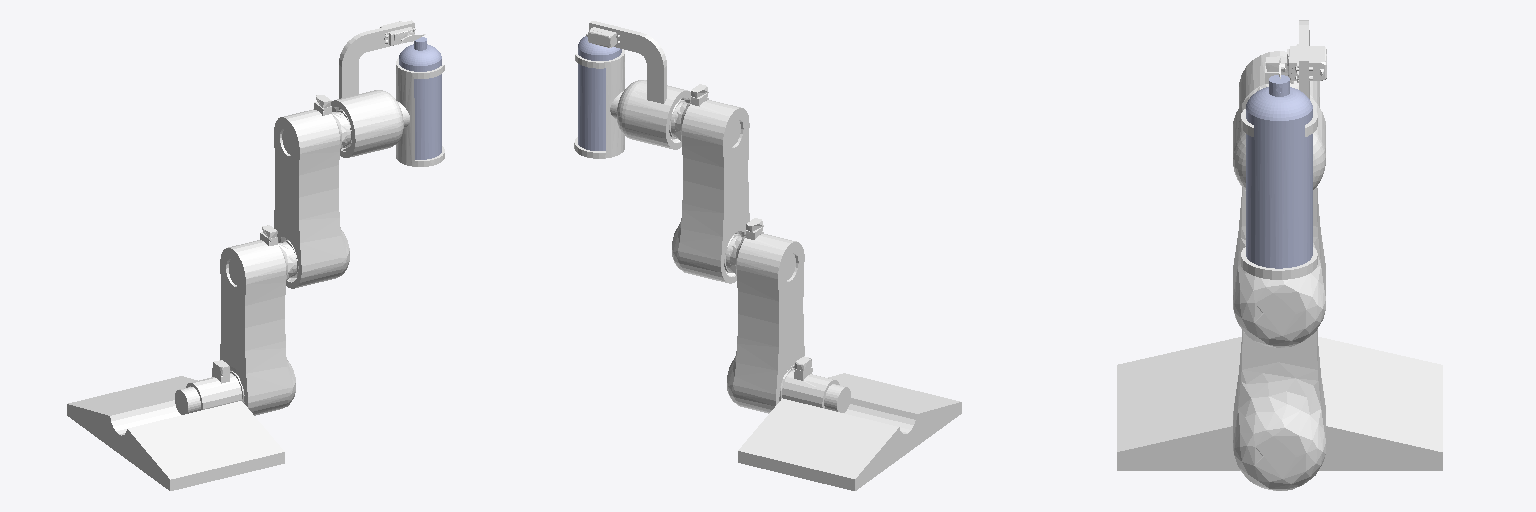
URDF robot description (urdf_manipulator):
<?xml version="1.0" encoding="utf-8"?>
<!-- This URDF was automatically created by SolidWorks to URDF Exporter! Originally created by [author] ([email redacted]) 
     Commit Version: 1.6.0-4-g7f85cfe  Build Version: 1.6.7995.38578
     For more information, please see http://wiki.ros.org/sw_urdf_exporter -->
<robot
  name="urdf_manipulator">

  <link name="world"/>
  <link
    name="base_link">
    <inertial>
      <origin
        xyz="0.032855 -2.0396E-07 0.032493"
        rpy="0 0 0" />
      <mass
        value="3.6432" />
      <inertia
        ixx="0.029523"
        ixy="1.0146E-10"
        ixz="-0.00060761"
        iyy="0.013131"
        iyz="7.624E-09"
        izz="0.017934" />
    </inertial>
    <visual>
      <origin
        xyz="0 0 0"
        rpy="0 0 0" />
      <geometry>
        <mesh
          filename="package://urdf_manipulator/meshes/meshes_visual/base_link.STL" />
      </geometry>
      <material
        name="">
        <color
          rgba="1 1 1 1" />
      </material>
    </visual>
    <collision>
      <origin
        xyz="0 0 0"
        rpy="0 0 0" />
      <geometry>
        <mesh
          filename="package://urdf_manipulator/meshes/meshes_collision/base_link.STL" />
      </geometry>
    </collision>
  </link>
  <joint name="base_joint" type="fixed">
    <parent link="world"/>
    <child link="base_link"/>
    <origin rpy="0 -1.57 3.14" xyz="0.0 0.0 0.0"/>
  </joint>
  <link
    name="First_link">
    <inertial>
      <origin
        xyz="0.14908 -1.0317E-07 -0.024905"
        rpy="0 0 0" />
      <mass
        value="2.4062" />
      <inertia
        ixx="0.0043226"
        ixy="-3.2997E-10"
        ixz="-0.00050553"
        iyy="0.011245"
        iyz="-3.9943E-08"
        izz="0.0086646" />
    </inertial>
    <visual>
      <origin
        xyz="0 0 0"
        rpy="0 0 0" />
      <geometry>
        <mesh
          filename="package://urdf_manipulator/meshes/meshes_visual/First_link.STL" />
      </geometry>
      <material
        name="">
        <color
          rgba="1 1 1 1" />
      </material>
    </visual>
    <collision>
      <origin
        xyz="0 0 0"
        rpy="0 0 0" />
      <geometry>
        <mesh
          filename="package://urdf_manipulator/meshes/meshes_collision/First_link.STL" />
      </geometry>
    </collision>
  </link>
  <joint
    name="First_joint"
    type="revolute">
    <origin
      xyz="0.06 0 0.193"
      rpy="0 0 0" />
    <parent
      link="base_link" />
    <child
      link="First_link" />
    <axis
      xyz="0 0 1" />
    <limit
      lower="-1.57"
      upper="1.57"
      effort="200"
      velocity="11.31" />
  </joint>
  <link
    name="Second_link">
    <inertial>
      <origin
        xyz="0.14908 -1.0316E-07 -0.024905"
        rpy="0 0 0" />
      <mass
        value="2.4062" />
      <inertia
        ixx="0.0043226"
        ixy="-3.2986E-10"
        ixz="-0.00050553"
        iyy="0.011245"
        iyz="-3.9943E-08"
        izz="0.0086646" />
    </inertial>
    <visual>
      <origin
        xyz="0 0 0"
        rpy="0 0 0" />
      <geometry>
        <mesh
          filename="package://urdf_manipulator/meshes/meshes_visual/Second_link.STL" />
      </geometry>
      <material
        name="">
        <color
          rgba="1 1 1 1" />
      </material>
    </visual>
    <collision>
      <origin
        xyz="0 0 0"
        rpy="0 0 0" />
      <geometry>
        <mesh
          filename="package://urdf_manipulator/meshes/meshes_collision/Second_link.STL" />
      </geometry>
    </collision>
  </link>
  <joint
    name="Second_joint"
    type="revolute">
    <origin
      xyz="0.2 0 0.096"
      rpy="0 0 0" />
    <parent
      link="First_link" />
    <child
      link="Second_link" />
    <axis
      xyz="0 0 1" />
    <limit
      lower="-1.57"
      upper="1.57"
      effort="200"
      velocity="11.31" />
  </joint>
  <link
    name="Third_link">
    <inertial>
      <origin
        xyz="0.014263 -0.0047291 -0.018891"
        rpy="0 0 0" />
      <mass
        value="0.43818" />
      <inertia
        ixx="0.0010137"
        ixy="0.00011592"
        ixz="0.0002587"
        iyy="0.0018612"
        iyz="-1.7606E-05"
        izz="0.0013717" />
    </inertial>
    <visual>
      <origin
        xyz="0 0 0"
        rpy="0 0 0" />
      <geometry>
        <mesh
          filename="package://urdf_manipulator/meshes/meshes_visual/Third_link.STL" />
      </geometry>
      <material
        name="">
        <color
          rgba="1 1 1 1" />
      </material>
    </visual>
    <collision>
      <origin
        xyz="0 0 0"
        rpy="0 0 0" />
      <geometry>
        <mesh
          filename="package://urdf_manipulator/meshes/meshes_collision/Third_link.STL" />
      </geometry>
    </collision>
  </link>
  <joint
    name="Third_joint"
    type="revolute">
    <origin
      xyz="0.2 0 0.096"
      rpy="0 0 0" />
    <parent
      link="Second_link" />
    <child
      link="Third_link" />
    <axis
      xyz="0 0 1" />
    <limit
      lower="-3.14"
      upper="3.14"
      effort="200"
      velocity="11.31" />
  </joint>
  <link
    name="End_effector">
    <inertial>
      <origin
        xyz="-0.076152 0.0 -0.01"
        rpy="0 0 0" />
      <mass
        value="0.58939" />
      <inertia
        ixx="0.0003138"
        ixy="2.4281E-12"
        ixz="1.0912E-08"
        iyy="0.0016307"
        iyz="2.6044E-13"
        izz="0.0016307" />
    </inertial>
    <visual>
      <origin
        xyz="0 -0.12627 0"
        rpy="0 0 0" />
      <geometry>
        <mesh
          filename="package://urdf_manipulator/meshes/meshes_visual/End_effector.STL" />
      </geometry>
      <material
        name="">
        <color
          rgba="0.79216 0.81961 0.93333 1" />
      </material>
    </visual>
    <collision>
      <origin
        xyz="0 -0.12627 0"
        rpy="0 0 0" />
      <geometry>
        <mesh
          filename="package://urdf_manipulator/meshes/meshes_collision/End_effector.STL" />
      </geometry>
    </collision>
  </link>
  <joint
    name="Flange"
    type="fixed">
    <origin
      xyz="0.092444 0.0 0.061"
      rpy="0 0 0" />
    <parent
      link="Third_link" />
    <child
      link="End_effector" />
    <axis
      xyz="0 0 0" />
  </joint>

  <gazebo>
    <plugin name="gazebo_ros_control" filename="libgazebo_ros_control.so">
        <robotNamespace></robotNamespace>
        <robotSimType>gazebo_ros_control/DefaultRobotHWSim</robotSimType>
        <legacyModeNS>true</legacyModeNS>   
    </plugin>
  </gazebo>

  <transmission name="First_link_trans">
    <type>transmission_interface/SimpleTransmission</type>
    <joint name="First_joint">
        <hardwareInterface>hardware_interface/PositionJointInterface</hardwareInterface>
    </joint>
    <actuator name="First_link_motor">
        <hardwareInterface>hardware_interface/PositionJointInterface</hardwareInterface>
        <mechanicalReduction>1</mechanicalReduction>
    </actuator>
  </transmission>

  <transmission name="Second_link_trans">
    <type>transmission_interface/SimpleTransmission</type>
    <joint name="Second_joint">
        <hardwareInterface>hardware_interface/PositionJointInterface</hardwareInterface>
    </joint>
    <actuator name="Second_link_motor">
        <hardwareInterface>hardware_interface/PositionJointInterface</hardwareInterface>
        <mechanicalReduction>1</mechanicalReduction>
    </actuator>
  </transmission>

  <transmission name="Third_link_trans">
    <type>transmission_interface/SimpleTransmission</type>
    <joint name="Third_joint">
        <hardwareInterface>hardware_interface/PositionJointInterface</hardwareInterface>
    </joint>
    <actuator name="Third_link_motor">
        <hardwareInterface>hardware_interface/PositionJointInterface</hardwareInterface>
        <mechanicalReduction>1</mechanicalReduction>
    </actuator>
  </transmission>

  <gazebo reference="First_link">
        <selfCollide>true</selfCollide>
  </gazebo>
  <gazebo reference="Second_link">
        <selfCollide>true</selfCollide>
  </gazebo>
  <gazebo reference="Third_link">
        <selfCollide>true</selfCollide>
  </gazebo>
  <gazebo reference="End_effector">
        <selfCollide>true</selfCollide>
  </gazebo>

</robot>

--- Render facts (derived) ---
3 views of the same robot in one strip: view 1: azimuth 30°, elevation 25°; view 2: azimuth 150°, elevation 25°; view 3: azimuth 270°, elevation 25° (orthographic).
Robot: urdf_manipulator — 6 links, 5 joints (3 revolute, 2 fixed); root link world; default pose: every joint at zero.
Visible links, largest first — view 1: base_link, Second_link, First_link, Third_link, End_effector; view 2: base_link, Second_link, First_link, Third_link, End_effector; view 3: base_link, First_link, End_effector, Second_link, Third_link.
Boxes of the visible links, <box> form: base_link: <box>67,360,284,490</box>; Second_link: <box>274,95,351,288</box>; First_link: <box>220,225,298,415</box>; Third_link: <box>331,20,444,166</box>; End_effector: <box>399,37,441,159</box>; base_link: <box>738,355,961,490</box>; Second_link: <box>669,84,749,283</box>; First_link: <box>724,218,804,413</box>; Third_link: <box>574,21,690,158</box>; End_effector: <box>578,36,621,150</box>; base_link: <box>1117,337,1442,470</box>; First_link: <box>1233,329,1325,490</box>; End_effector: <box>1246,75,1312,268</box>; Second_link: <box>1233,51,1325,347</box>; Third_link: <box>1233,20,1326,279</box>.
Size in the robot's own frame: 0.5759 by 0.3203 by 0.6005 metres.
Meshes: 5 distinct files referenced, 5 mesh visuals loaded (5 binary STL).